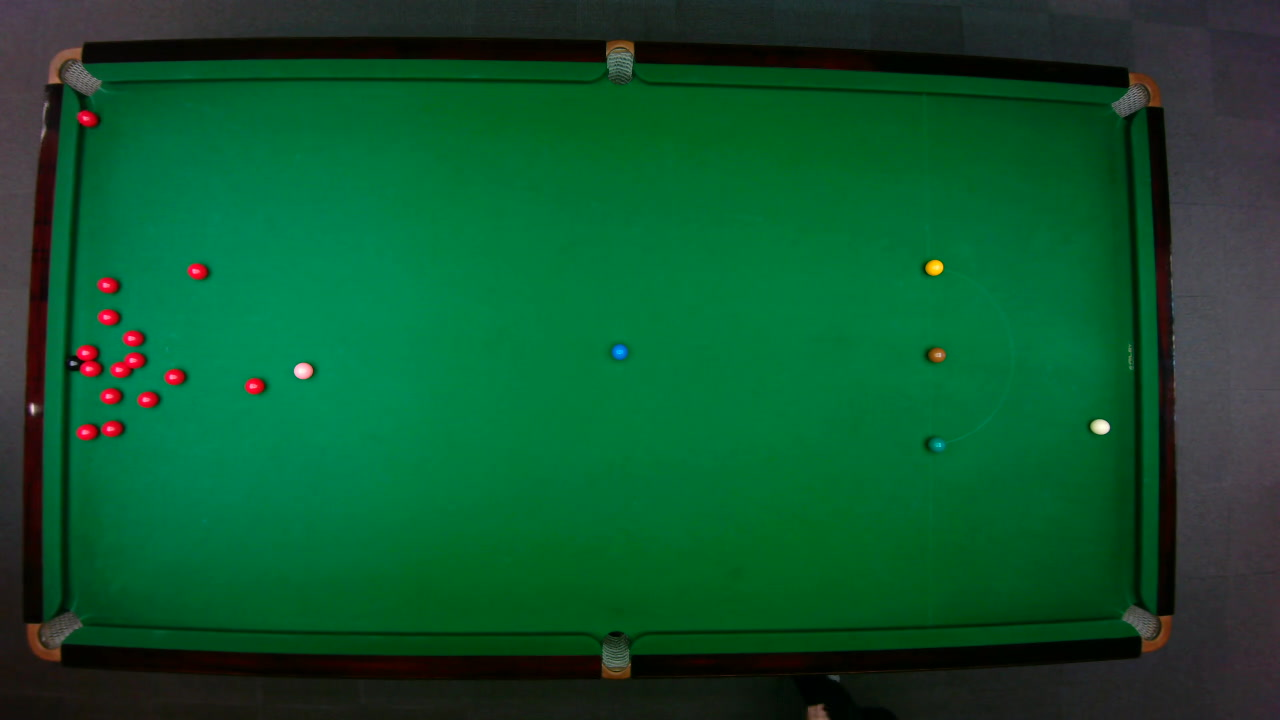bag: (25, 609, 83, 661), (45, 47, 102, 95), (1119, 603, 1171, 652), (1108, 71, 1161, 118), (600, 629, 630, 680), (605, 38, 633, 85)
black: (65, 356, 79, 369)
blue: (609, 342, 628, 360)
brown: (926, 346, 946, 362)
green: (926, 434, 946, 452)
pink: (292, 360, 314, 380)
red: (135, 389, 159, 408), (75, 108, 99, 127), (73, 343, 98, 361), (100, 418, 123, 437), (242, 376, 265, 395), (98, 386, 122, 404), (74, 422, 98, 440), (185, 261, 208, 279), (96, 307, 119, 325), (163, 367, 185, 385), (123, 351, 146, 368), (108, 360, 131, 377), (121, 329, 144, 346), (78, 360, 102, 376), (96, 276, 118, 293)
white: (1088, 417, 1110, 434)
yellow: (923, 258, 944, 276)
zone: (926, 264, 1013, 444)
